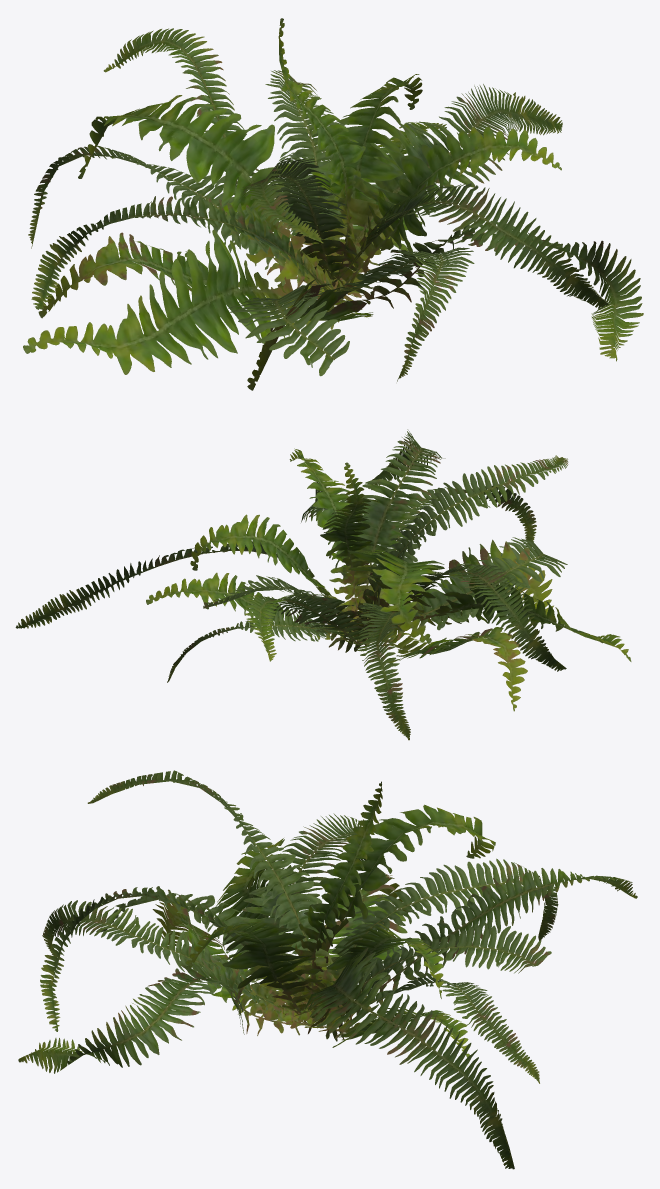
File: fern.glb
3 renders of one model, top to bottom at view 1: azimuth 30°, elevation 25°; view 2: azimuth 150°, elevation 25°; view 3: azimuth 270°, elevation 25°, orthographic. The views are drawn at different scales.
Visible parts, largest first — view 1: fern_02_c; view 2: fern_02_c; view 3: fern_02_c.
Part boxes in pixels (x1=…): fern_02_c: x1=23, y1=18, x2=643, y2=390; fern_02_c: x1=15, y1=429, x2=631, y2=740; fern_02_c: x1=18, y1=770, x2=637, y2=1169.
Bounding box in the file's own units: 0.8743 × 0.349 × 0.7652.
1 material, 1 textured.
